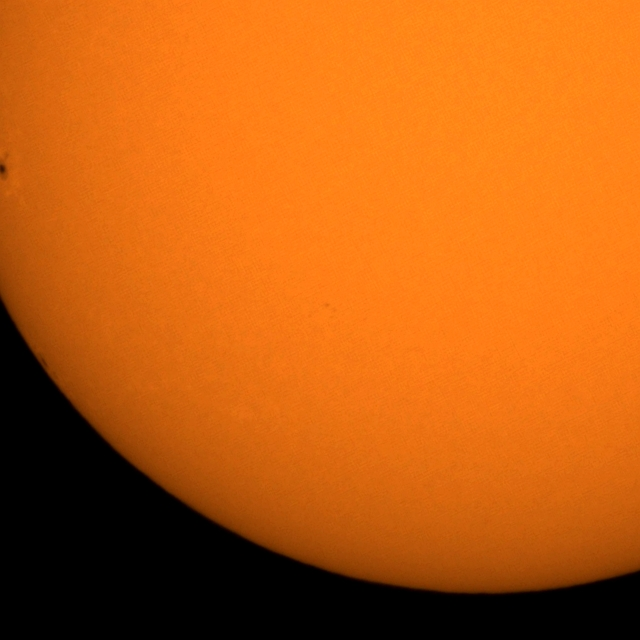sunspot: (39, 354, 60, 380), (0, 156, 9, 184), (39, 356, 49, 368)
